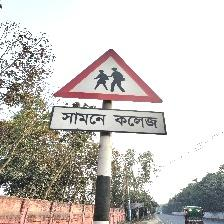College-in-front: (43, 40, 192, 149)
